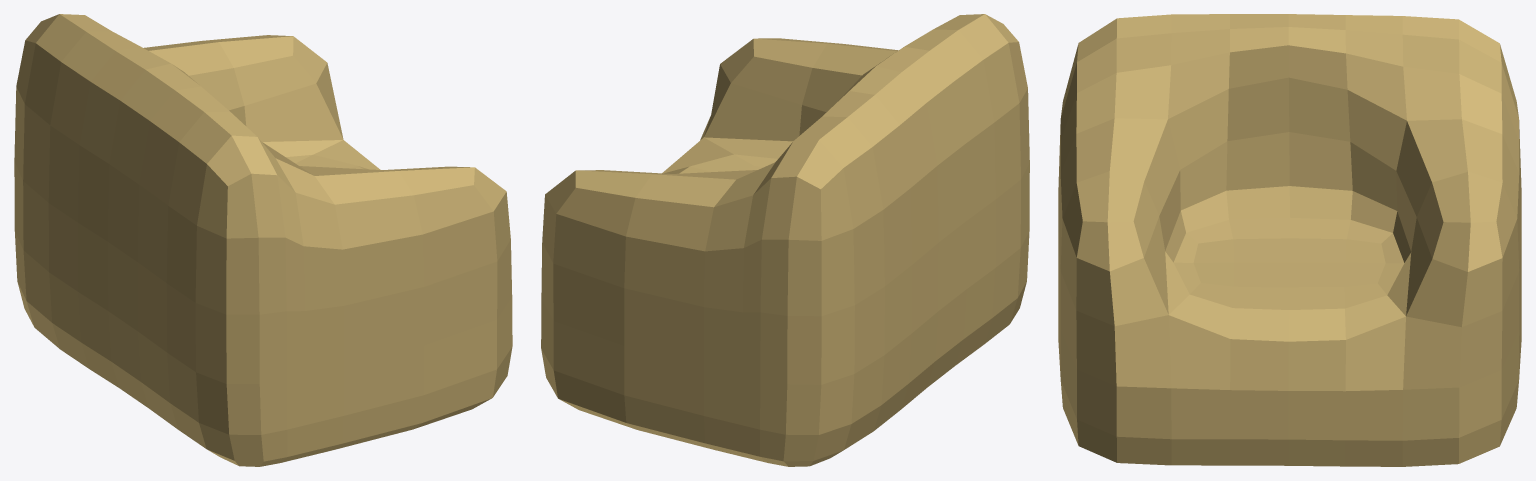
The model's file is Sofa Kecil.fbx.
The picture shows the model from 3 angles, left to right: view 1: azimuth 30°, elevation 25°; view 2: azimuth 150°, elevation 25°; view 3: azimuth 270°, elevation 25°; orthographic projection.
Visible parts, largest first — view 1: Cube; view 2: Cube; view 3: Cube.
Part boxes in pixels (x1,y1,x2,y2): Cube: (14, 14, 512, 466); Cube: (541, 14, 1029, 466); Cube: (1058, 14, 1521, 466).
Bounding box in the file's own units: 108 × 105 × 132.
